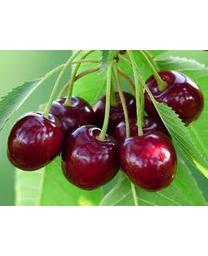cherry: (60, 124, 124, 190), (141, 69, 204, 128), (119, 133, 175, 192), (6, 112, 61, 172), (94, 90, 140, 144), (48, 96, 91, 147)
